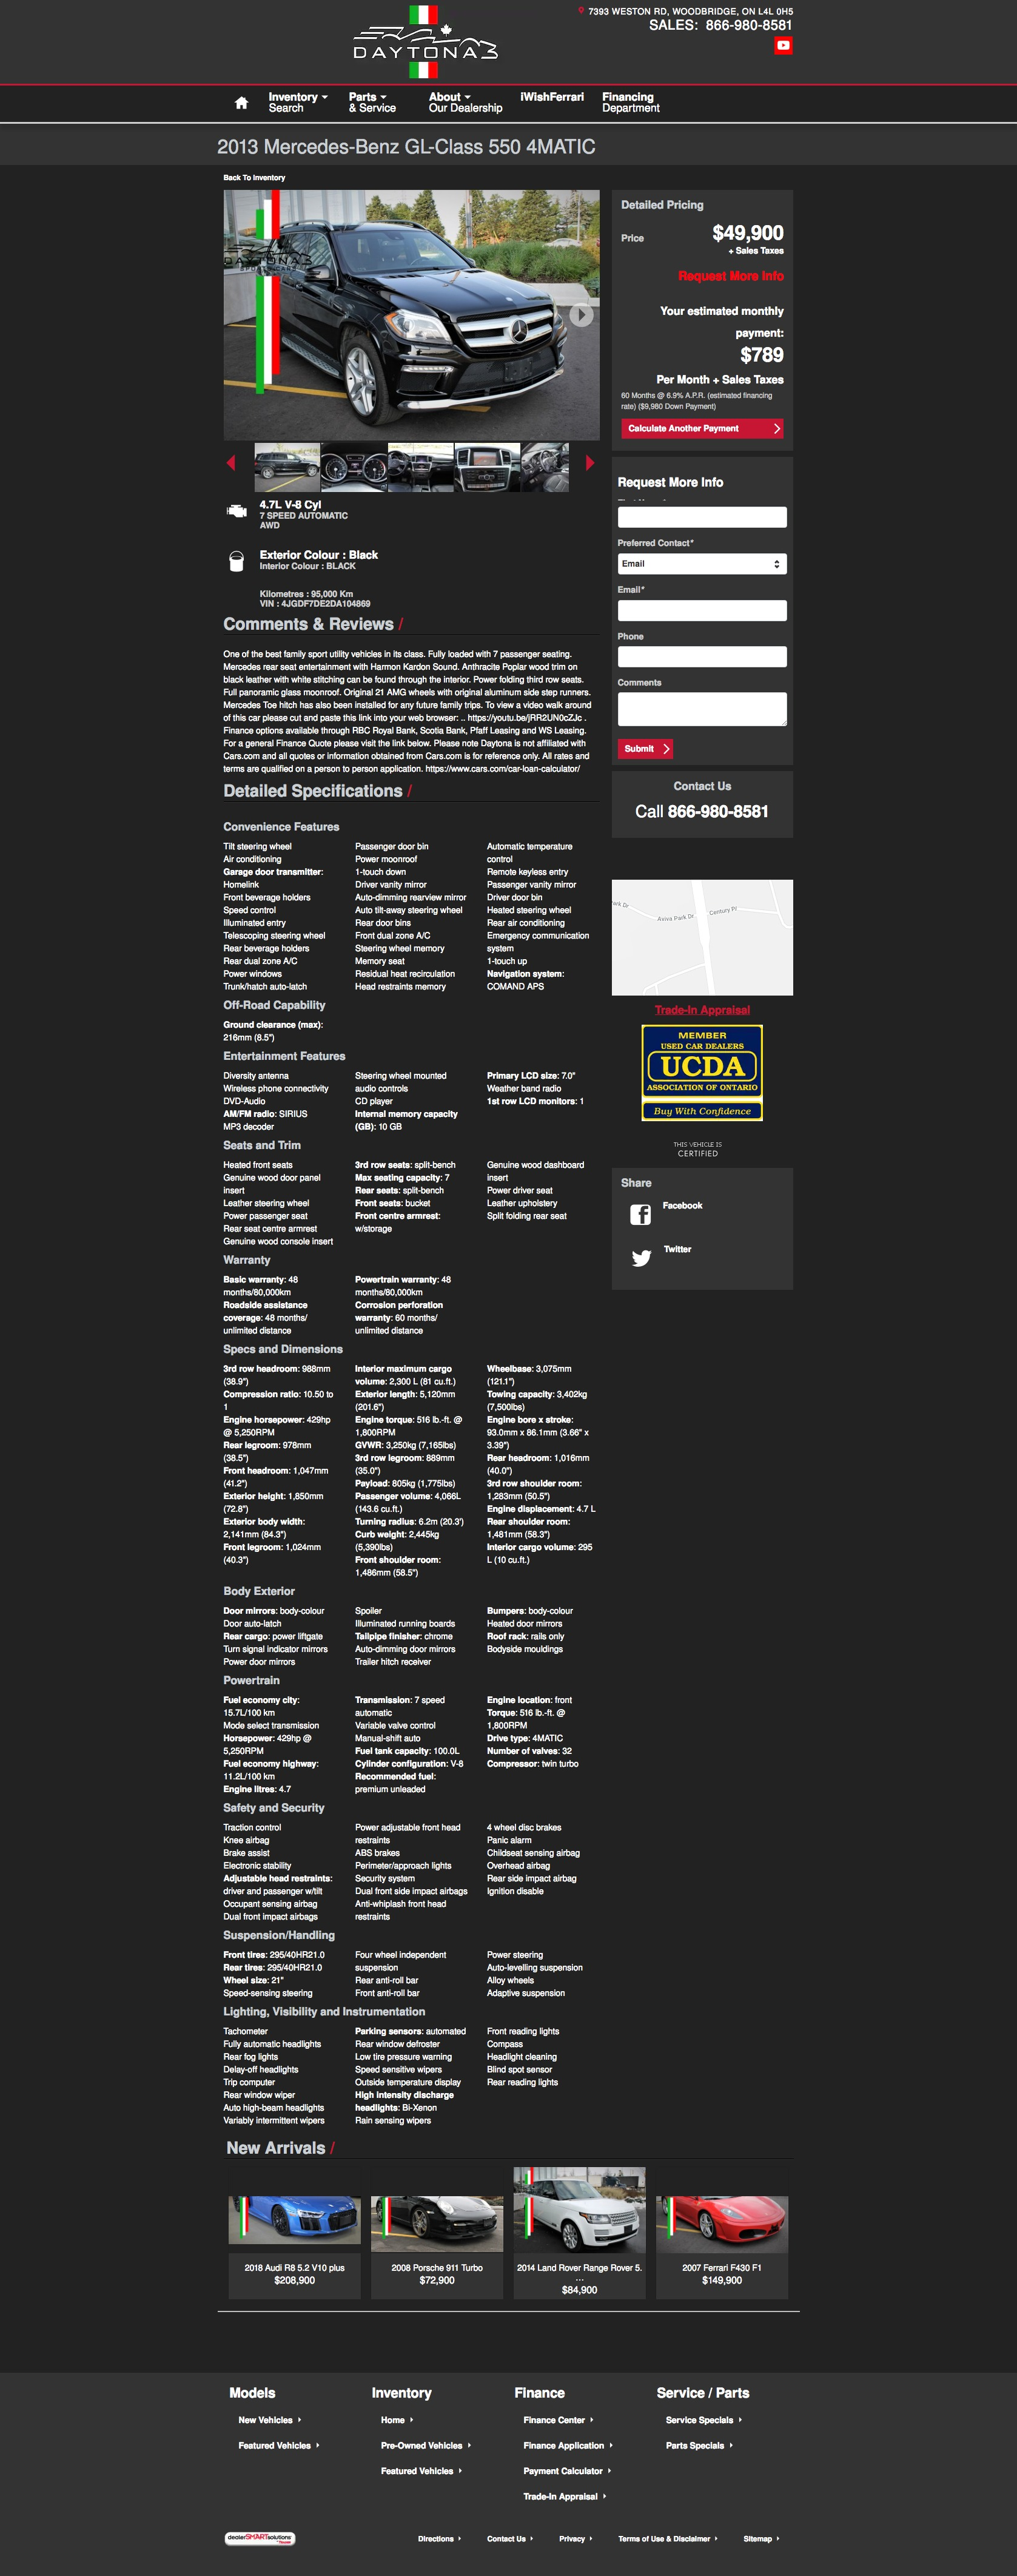car: (585, 455, 596, 471)
